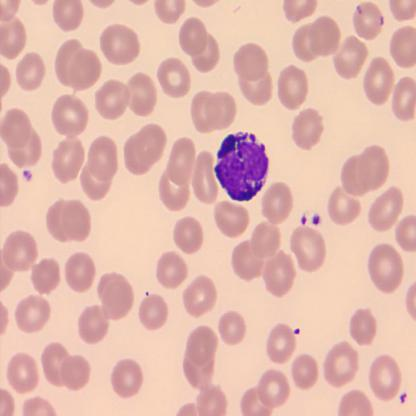Basophil: (209, 127, 271, 204)
